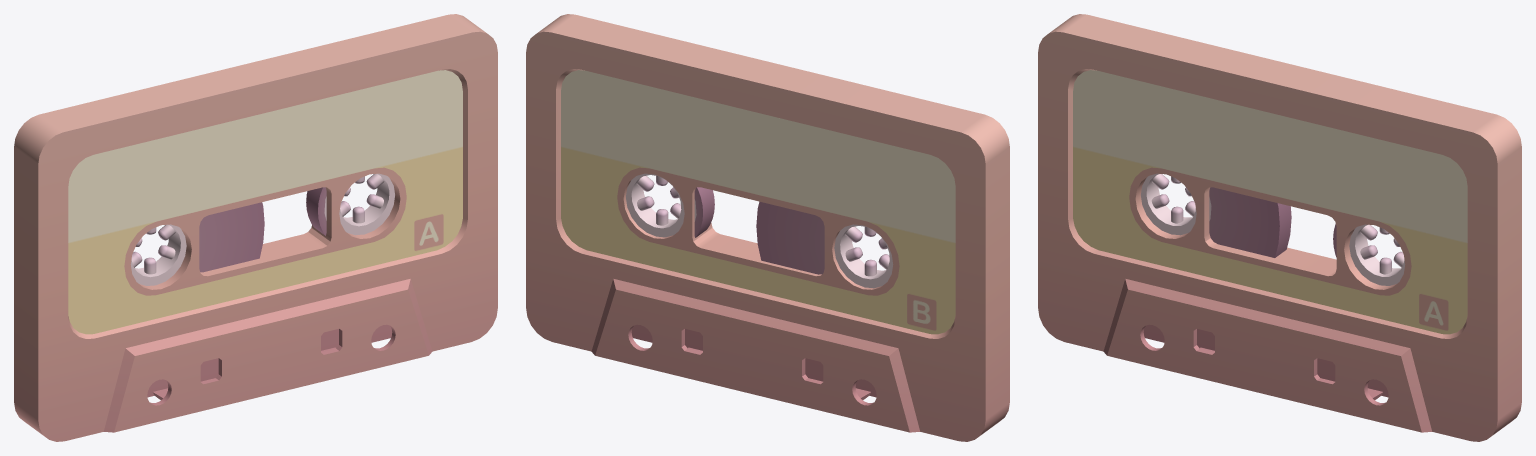
Rendered from CassetteInsertANDFlipAnim.fbx.
3 renders of one model, left to right at view 1: azimuth 30°, elevation 25°; view 2: azimuth 150°, elevation 25°; view 3: azimuth 330°, elevation 25°, orthographic.
Parts seen in each view (by area): view 1: Animatoin00:Cassette, Animatoin00:Cassette_Tape_1_Left, Animatoin00:Cassette_Tape_2_Right; view 2: Animatoin00:Cassette, Animatoin00:Cassette_Tape_1_Left, Animatoin00:Cassette_Tape_2_Right; view 3: Animatoin00:Cassette, Animatoin00:Cassette_Tape_1_Left, Animatoin00:Cassette_Tape_2_Right.
Part boxes in pixels (<box>): Animatoin00:Cassette: <box>14,14,497,441</box>; Animatoin00:Cassette_Tape_1_Left: <box>130,202,264,285</box>; Animatoin00:Cassette_Tape_2_Right: <box>306,173,394,235</box>; Animatoin00:Cassette: <box>526,14,1009,441</box>; Animatoin00:Cassette_Tape_1_Left: <box>756,201,893,288</box>; Animatoin00:Cassette_Tape_2_Right: <box>626,173,714,237</box>; Animatoin00:Cassette: <box>1038,14,1521,441</box>; Animatoin00:Cassette_Tape_1_Left: <box>1141,173,1291,257</box>; Animatoin00:Cassette_Tape_2_Right: <box>1333,224,1405,285</box>.
Bounding box in the file's own units: 10.02 × 6.44 × 1.17.
